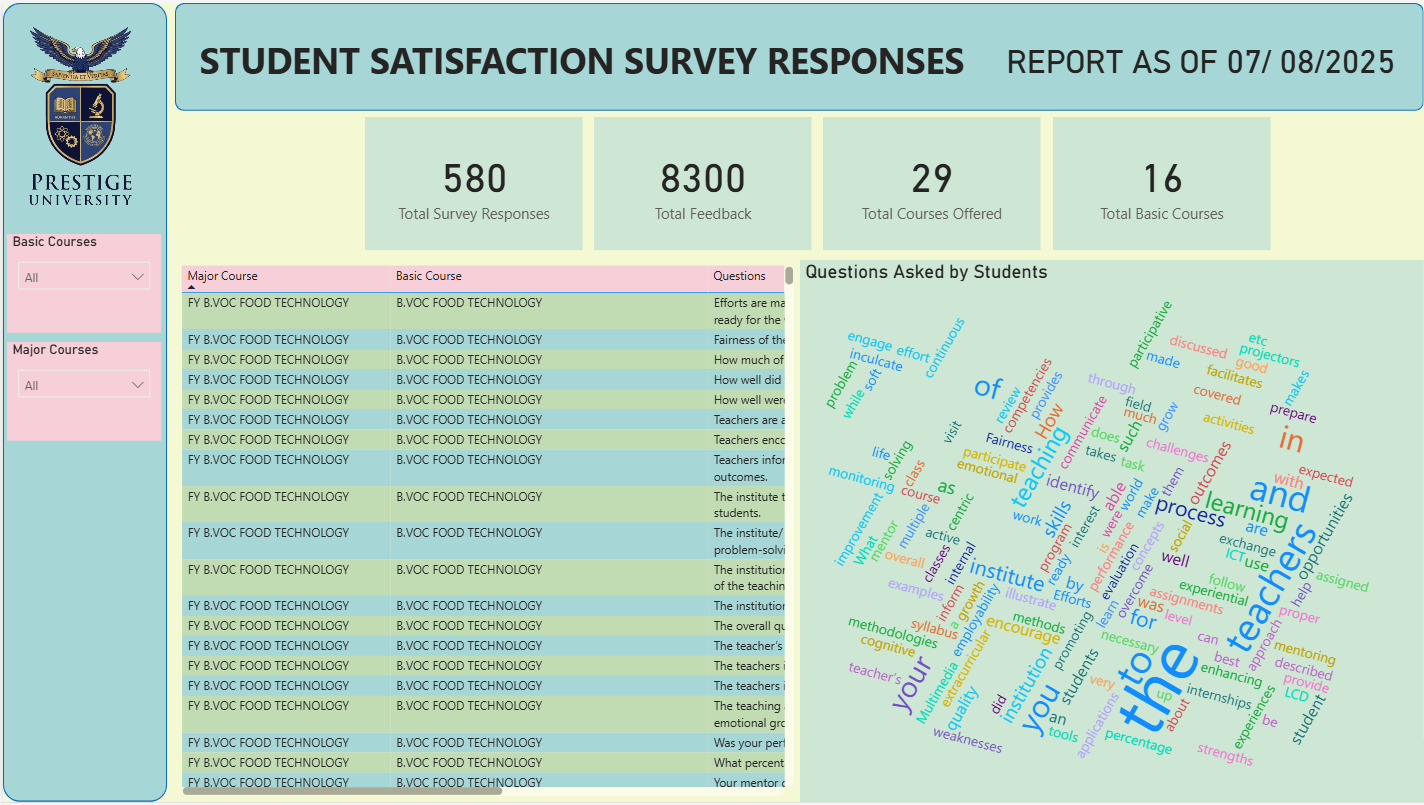

What the dashboard file says about the page in this screenshot:
{"tool":"powerbi","page":{"name":"Page 1","canvas":[1280,720],"ordinal":0},"visuals":[{"type":"card","fields":{"Values":["Student_Satisfaction_Survey.Total Survey Responses"]},"box":[325.8,103.1,196.5,119.6],"z":0,"group":"g1"},{"type":"WordCloud1447959067750","title":"Questions Asked by Students","fields":{"Category":["Student_Satisfaction_Survey.Questions"]},"box":[717.8,231.5,562.2,488.3],"z":0},{"type":"shape","box":[154.7,0,1125.3,97.3],"z":1000},{"type":"card","fields":{"Values":["Student_Satisfaction_Survey.Total Feedback"]},"box":[532.3,103.1,196.5,119.6],"z":1000,"group":"g1"},{"type":"textbox","box":[172.2,6.8,716.8,83.6],"z":2000},{"type":"card","fields":{"Values":["Student_Satisfaction_Survey.Total Courses Offered"]},"box":[738.8,103.1,196.5,119.6],"z":2000,"group":"g1"},{"type":"card","fields":{"Values":["Student_Satisfaction_Survey.Report"]},"box":[878.3,22.4,401.7,57.4],"z":3000},{"type":"card","fields":{"Values":["Student_Satisfaction_Survey.Total Basic Courses"]},"box":[945.4,103.1,196.5,119.6],"z":3000,"group":"g1"},{"type":"group","id":"g1","title":"Group 1","box":[325.8,103.1,816,119.6],"z":4000},{"type":"shape","box":[0,0,147.8,719.8],"z":4001},{"type":"image","box":[0,8.8,139.1,187.7],"z":4002},{"type":"slicer","title":"Major Courses","fields":{"Values":["Courses.Course Name "]},"box":[3.9,305.4,139.1,89.5],"z":4003},{"type":"slicer","title":"Basic Courses","fields":{"Values":["Basic Courses.Basic Course"]},"box":[3.9,208.1,139.1,89.5],"z":4004},{"type":"tableEx","fields":{"Values":["Courses.Course Name ","Basic Courses.Basic Course","Student_Satisfaction_Survey.Questions"]},"box":[154.7,231.5,563.2,488.3],"z":4005}]}

Visuals, with their boxes in screenshot pixels (x1, y1, x2, y2), scaled from the page's 1280x720 canvas onto the 1424x805 screenshot:
card - Student_Satisfaction_Survey.Total Survey Responses: (left=362, top=115, right=581, bottom=249)
"Questions Asked by Students" WordCloud1447959067750: (left=799, top=259, right=1423, bottom=804)
shape: (left=172, top=0, right=1423, bottom=109)
card - Student_Satisfaction_Survey.Total Feedback: (left=592, top=115, right=811, bottom=249)
textbox: (left=192, top=8, right=989, bottom=101)
card - Student_Satisfaction_Survey.Total Courses Offered: (left=822, top=115, right=1041, bottom=249)
card - Student_Satisfaction_Survey.Report: (left=977, top=25, right=1423, bottom=89)
card - Student_Satisfaction_Survey.Total Basic Courses: (left=1052, top=115, right=1270, bottom=249)
"Group 1" group: (left=362, top=115, right=1270, bottom=249)
shape: (left=0, top=0, right=164, bottom=804)
image: (left=0, top=10, right=155, bottom=220)
"Major Courses" slicer: (left=4, top=341, right=159, bottom=442)
"Basic Courses" slicer: (left=4, top=233, right=159, bottom=333)
tableEx - Courses.Course Name  x Basic Courses.Basic Course: (left=172, top=259, right=799, bottom=804)
